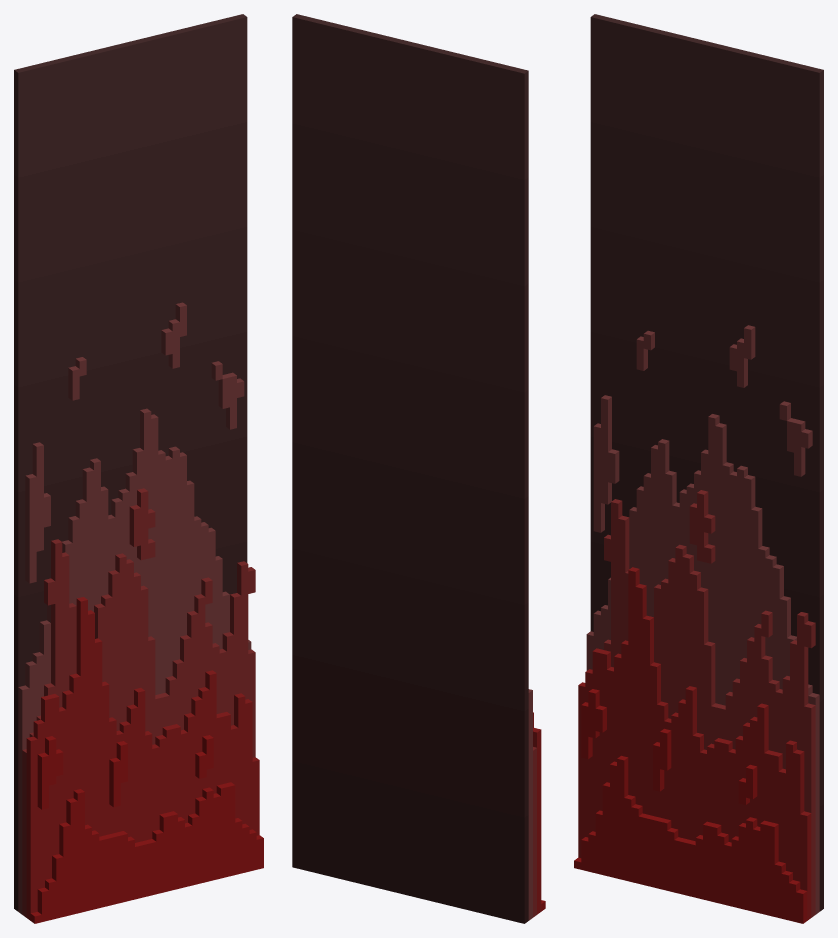
The model's file is scene_fire.glb.
The picture shows the model from 3 angles, left to right: view 1: azimuth 30°, elevation 25°; view 2: azimuth 150°, elevation 25°; view 3: azimuth 330°, elevation 25°; orthographic projection.
Parts seen in each view (by area): view 1: scene_fire_82, scene_fire_81, scene_fire_79, scene_fire_80, scene_fire_78; view 2: scene_fire_82, scene_fire_81, scene_fire_79, scene_fire_80; view 3: scene_fire_82, scene_fire_81, scene_fire_79, scene_fire_80, scene_fire_78.
Boxes of the visible parts, x1,y1,x2,y2 form: scene_fire_82: (14, 14, 247, 911); scene_fire_81: (18, 302, 251, 914); scene_fire_79: (26, 597, 259, 920); scene_fire_80: (22, 488, 255, 917); scene_fire_78: (30, 735, 263, 923); scene_fire_82: (292, 14, 528, 923); scene_fire_81: (528, 689, 532, 920); scene_fire_79: (533, 712, 541, 914); scene_fire_80: (533, 747, 536, 917); scene_fire_82: (590, 14, 823, 911); scene_fire_81: (586, 325, 819, 914); scene_fire_79: (578, 567, 811, 920); scene_fire_80: (604, 490, 815, 917); scene_fire_78: (574, 689, 807, 923).
Size of the model in its own units: 3.2 by 11.2 by 0.5.
1 material, 1 textured.
